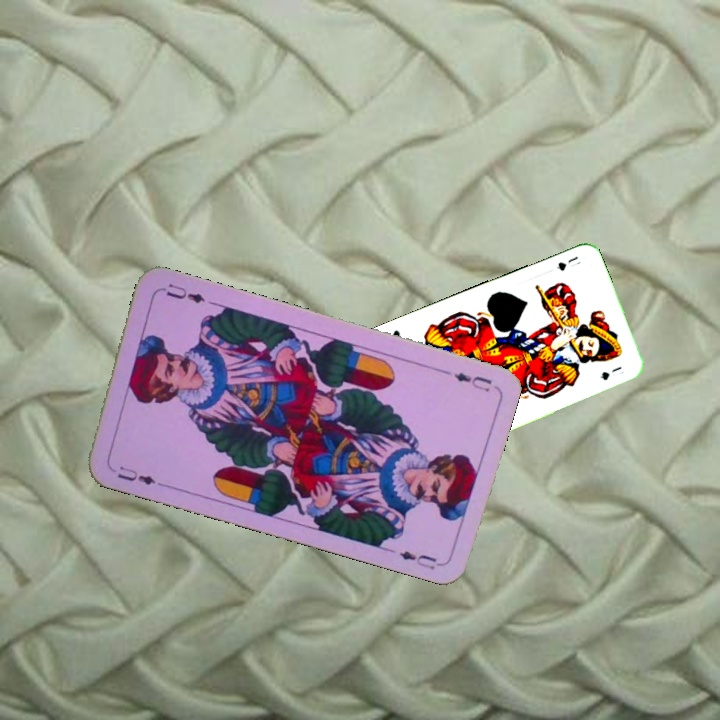EU: (113, 461, 158, 488), (450, 368, 495, 395)
GU: (552, 252, 580, 274)
